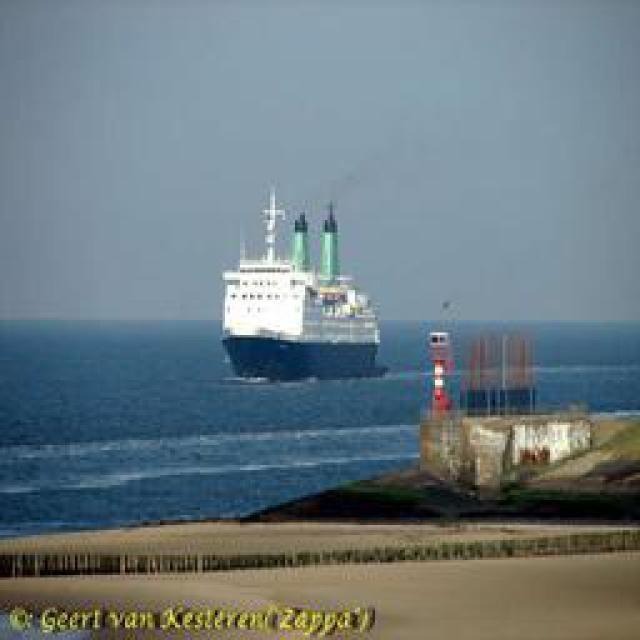Ship: (226, 179, 384, 379)
